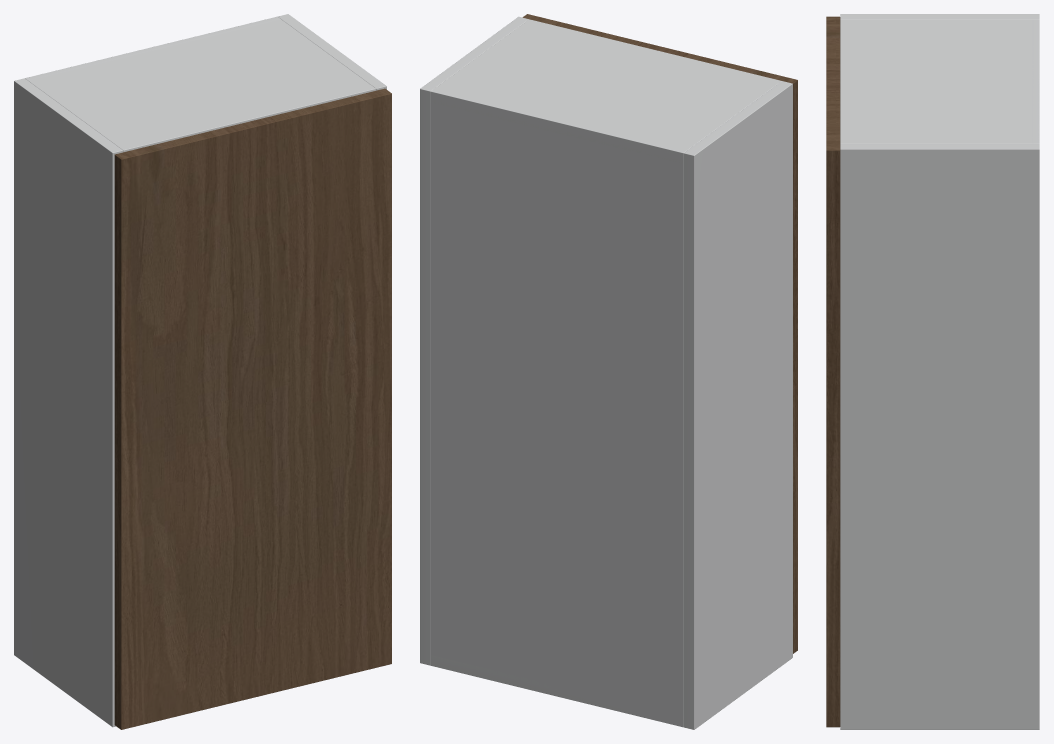
The model's file is oppein-ply-mso-w1836.glb.
3 renders of one model, left to right at view 1: azimuth 30°, elevation 25°; view 2: azimuth 150°, elevation 25°; view 3: azimuth 270°, elevation 25°, orthographic.
Visible parts, largest first — view 1: Door, Cabinet side, Cabinet top, Cabinet side.001, Cabinet back; view 2: Cabinet back, Cabinet side, Cabinet top, Cabinet side.001, Door, Cabinet bottom; view 3: Cabinet side.001, Cabinet top, Door, Cabinet side, Cabinet back.
Part boxes in pixels (x1,y1,x2,y2): Door: [114, 88, 391, 729]; Cabinet side: [14, 78, 123, 727]; Cabinet top: [26, 19, 375, 152]; Cabinet side.001: [278, 14, 386, 90]; Cabinet back: [25, 16, 280, 80]; Cabinet back: [430, 88, 686, 727]; Cabinet side: [683, 81, 792, 729]; Cabinet top: [430, 19, 781, 163]; Cabinet side.001: [420, 16, 528, 665]; Door: [522, 14, 797, 653]; Cabinet bottom: [430, 655, 683, 726]; Cabinet side.001: [840, 144, 1039, 729]; Cabinet top: [840, 19, 1039, 143]; Door: [826, 16, 840, 727]; Cabinet side: [840, 14, 1039, 19]; Cabinet back: [1031, 19, 1039, 143].
Bounding box in the file's own units: 0.4572 × 0.9144 × 0.3048.
2 materials, 1 textured.
